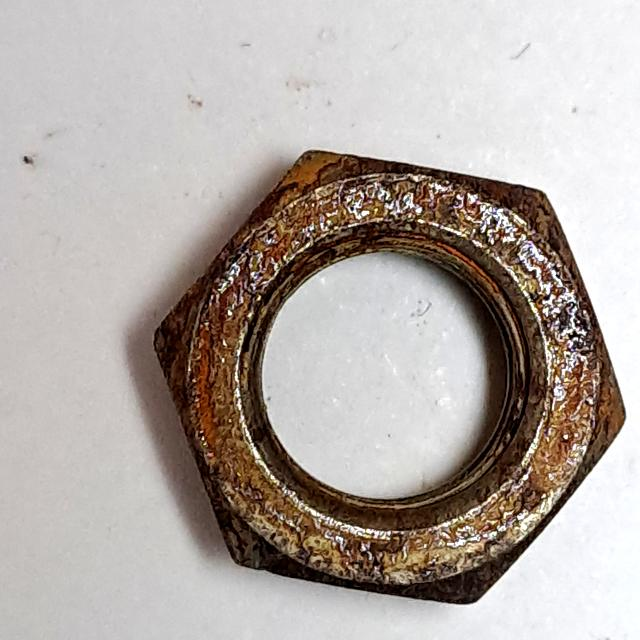Rust: (139, 138, 633, 623)
